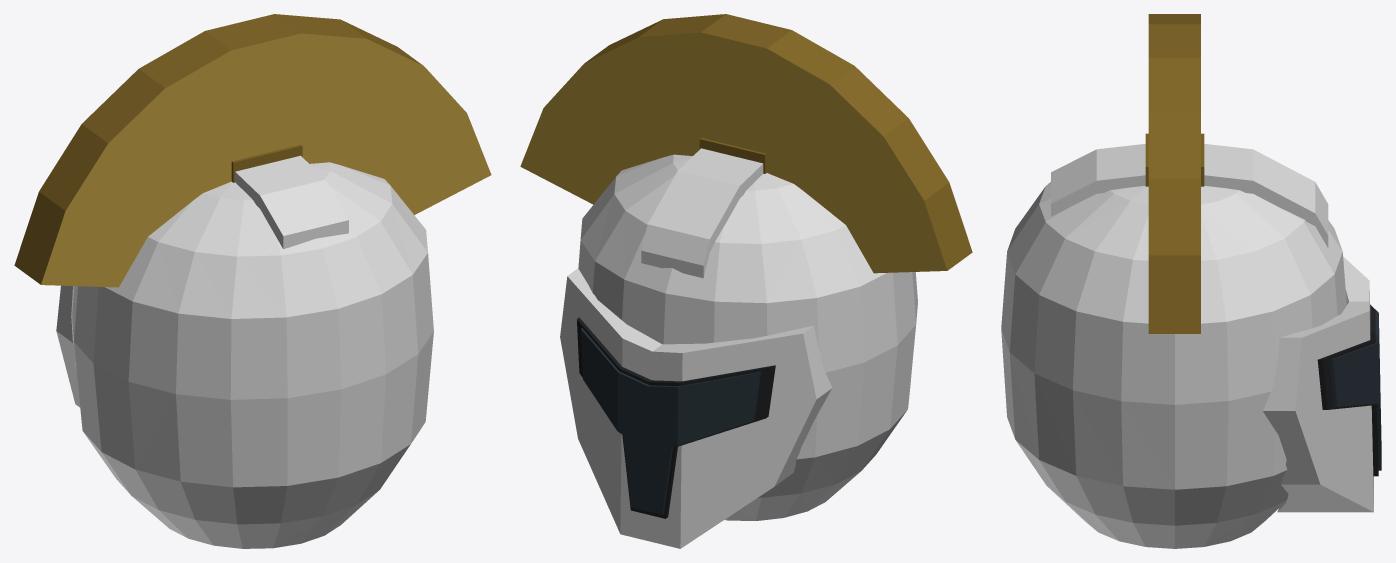
File: person_hat_marine_helm_prestige.obj
3 renders of one model, left to right at view 1: azimuth 30°, elevation 25°; view 2: azimuth 150°, elevation 25°; view 3: azimuth 270°, elevation 25°, orthographic. The views are drawn at different scales.
Parts seen in each view (by area): view 1: person_hat_marine_helm_prestige, person_hat_marine_helm_prestige_addons; view 2: person_hat_marine_helm_prestige, person_hat_marine_helm_prestige_addons; view 3: person_hat_marine_helm_prestige, person_hat_marine_helm_prestige_addons.
Part boxes in pixels (left/top/right/bottom): person_hat_marine_helm_prestige: left=56, top=155, right=433, bottom=548; person_hat_marine_helm_prestige_addons: left=14, top=14, right=491, bottom=287; person_hat_marine_helm_prestige: left=560, top=148, right=917, bottom=548; person_hat_marine_helm_prestige_addons: left=520, top=14, right=972, bottom=273; person_hat_marine_helm_prestige: left=1001, top=144, right=1381, bottom=548; person_hat_marine_helm_prestige_addons: left=1145, top=14, right=1204, bottom=333.
Size of the model in its own units: 0.7826 by 0.7904 by 0.5827.
